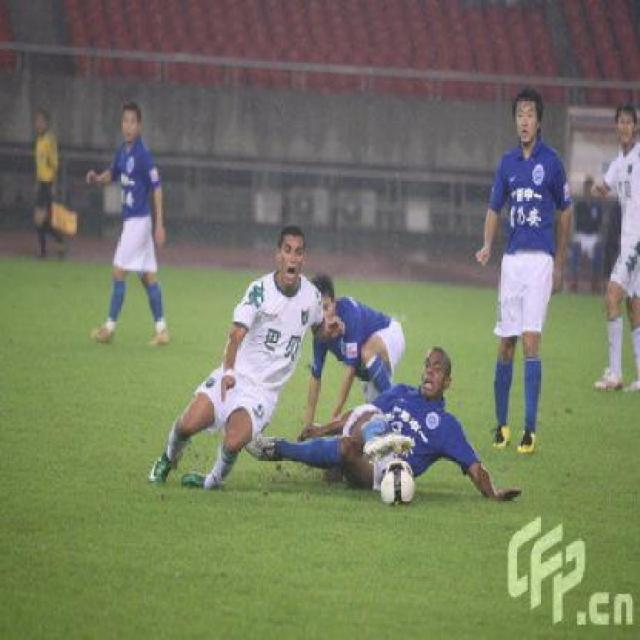fall: (296, 268, 416, 420)
